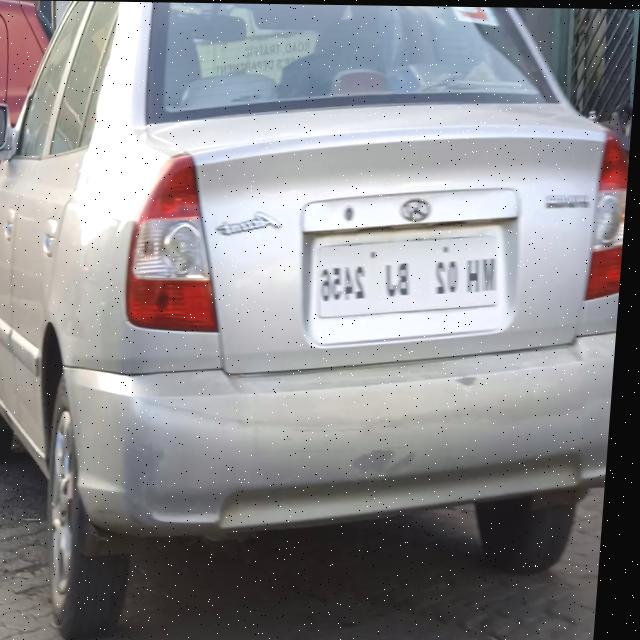plate: (316, 224, 508, 324)
